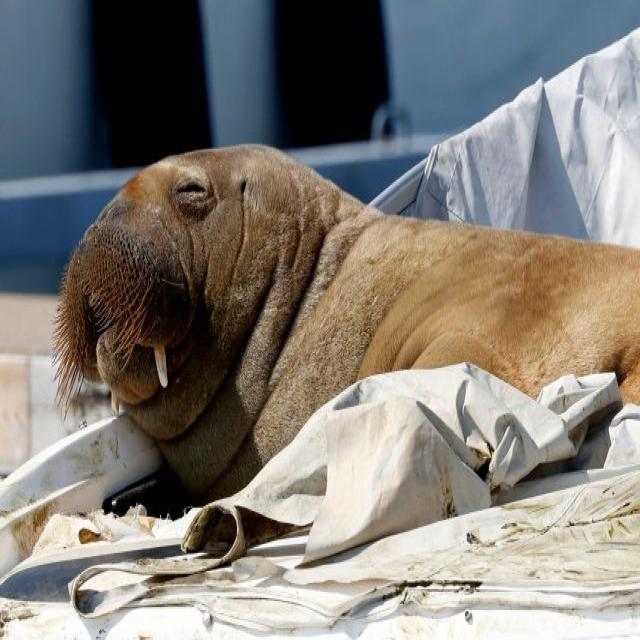walrus: (24, 96, 612, 540)
